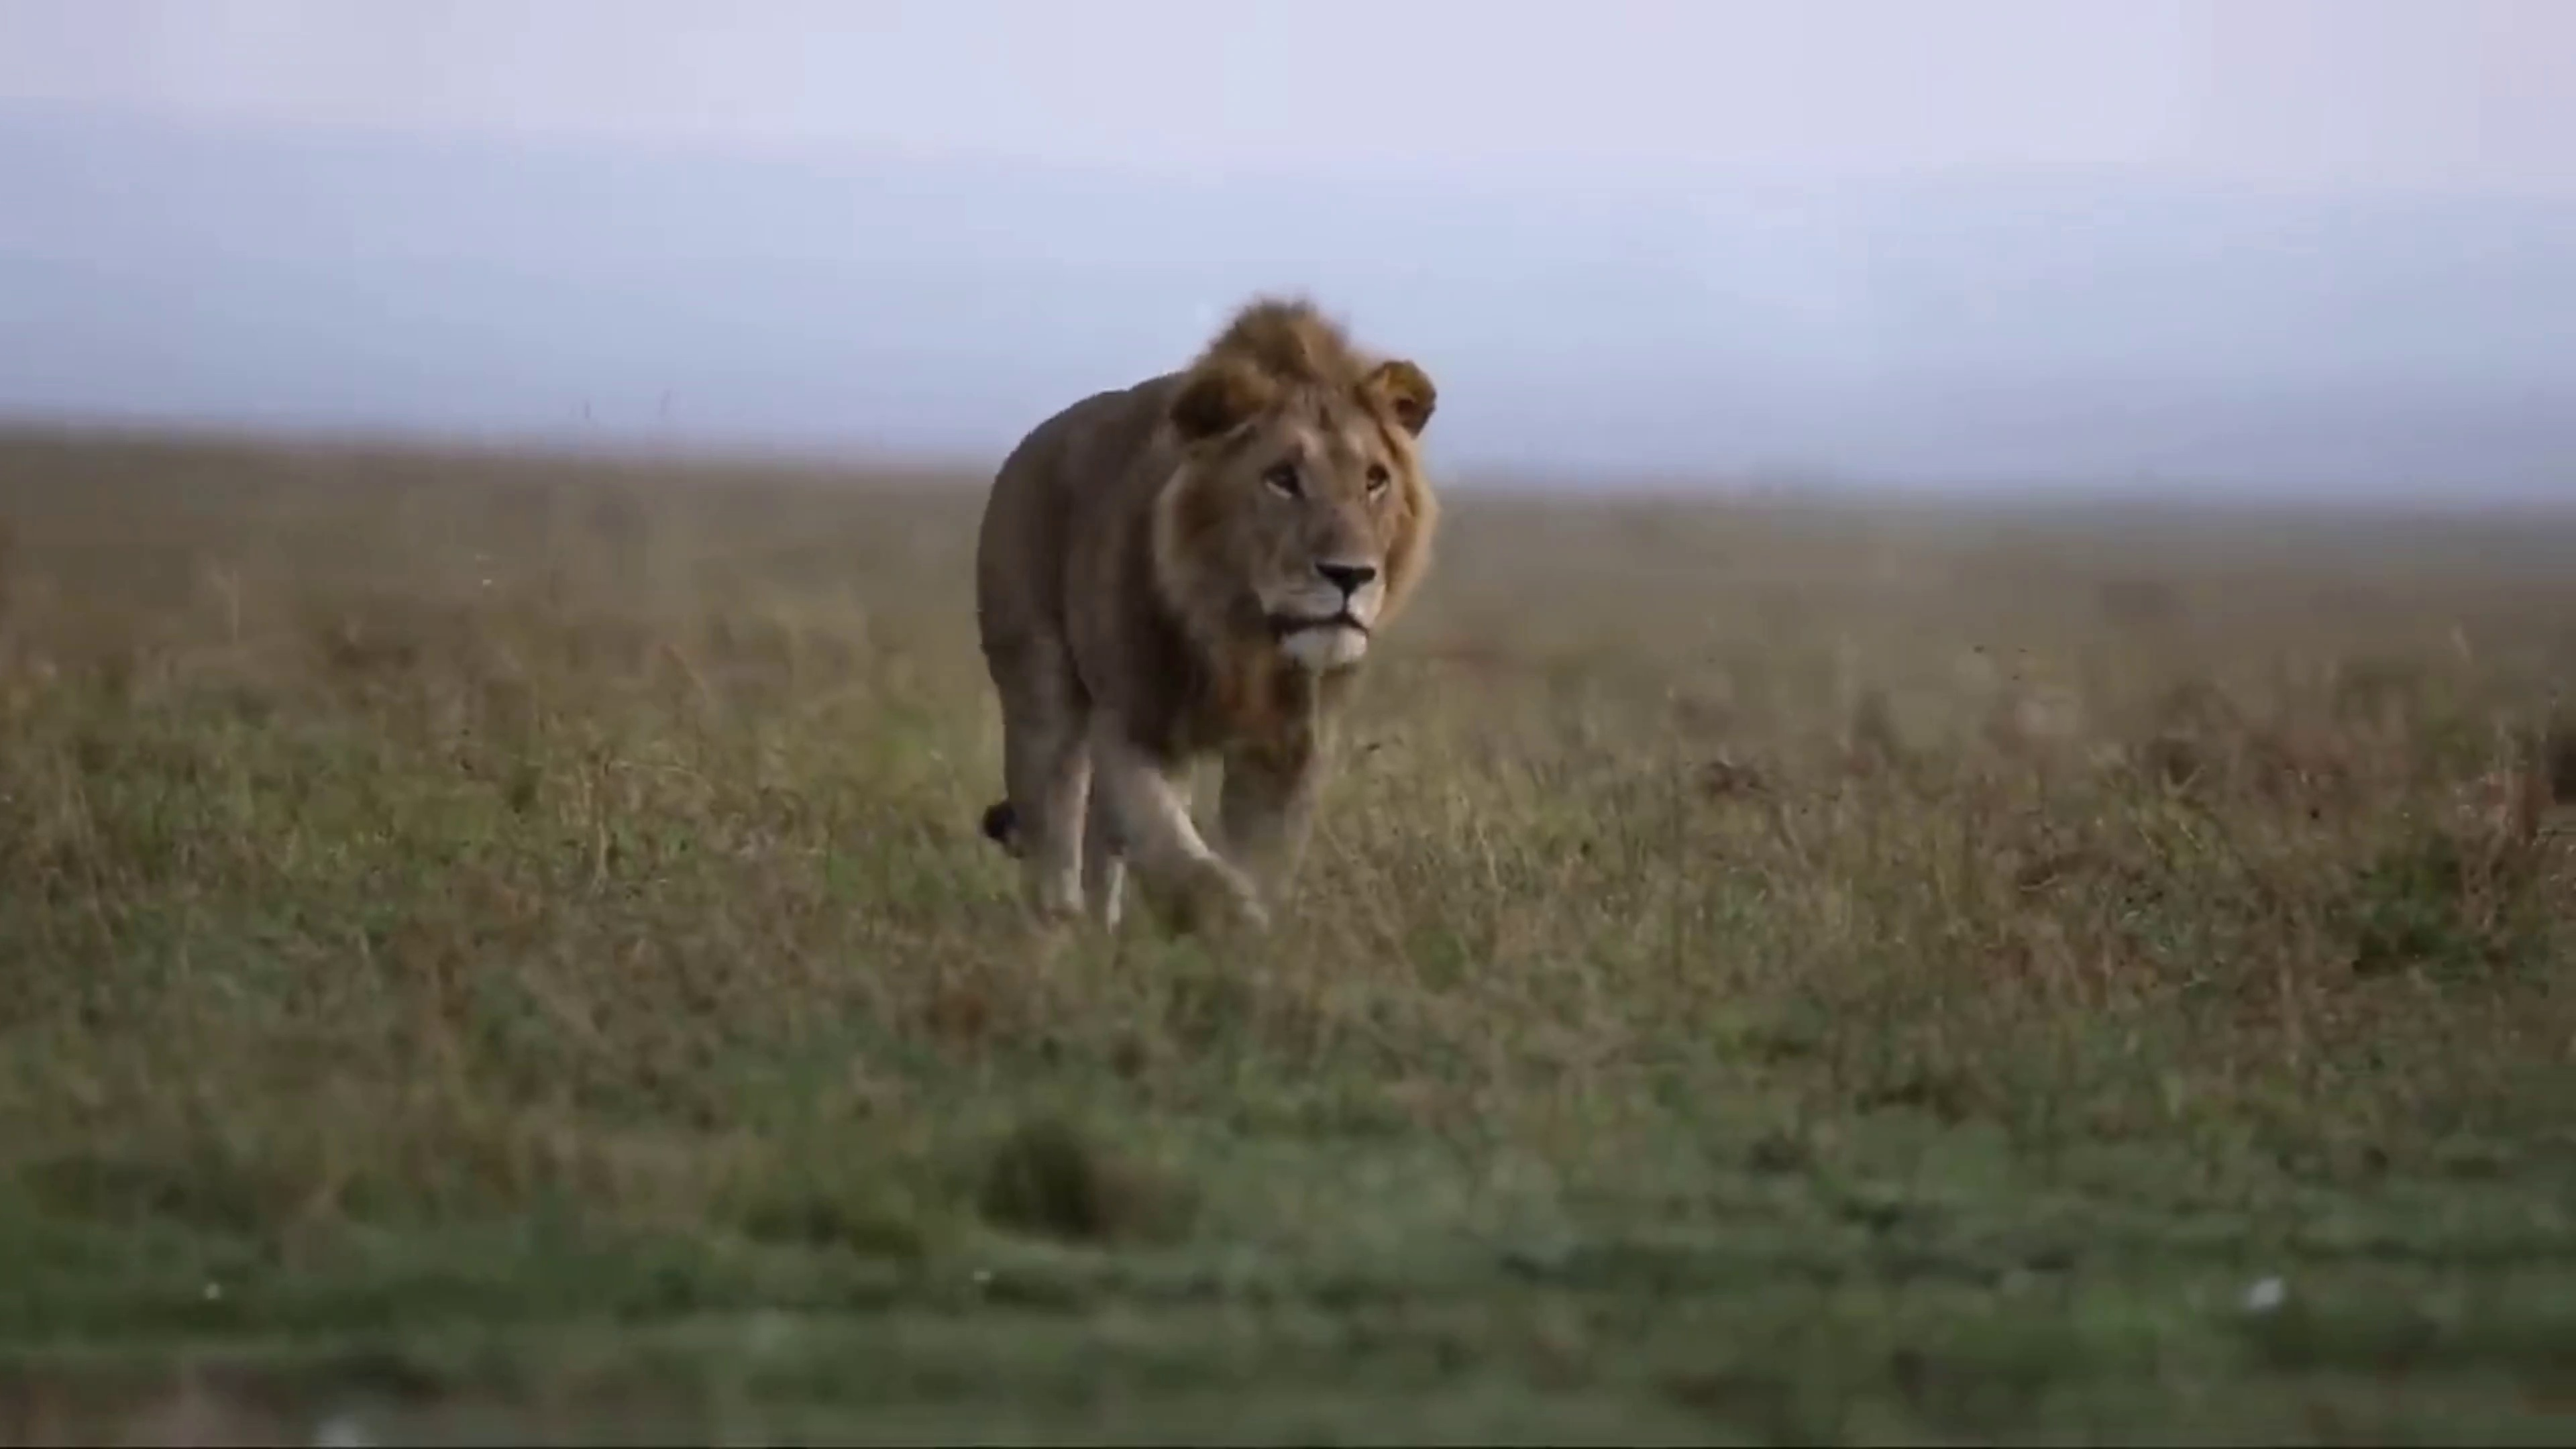Lion: (977, 288, 1442, 947)
